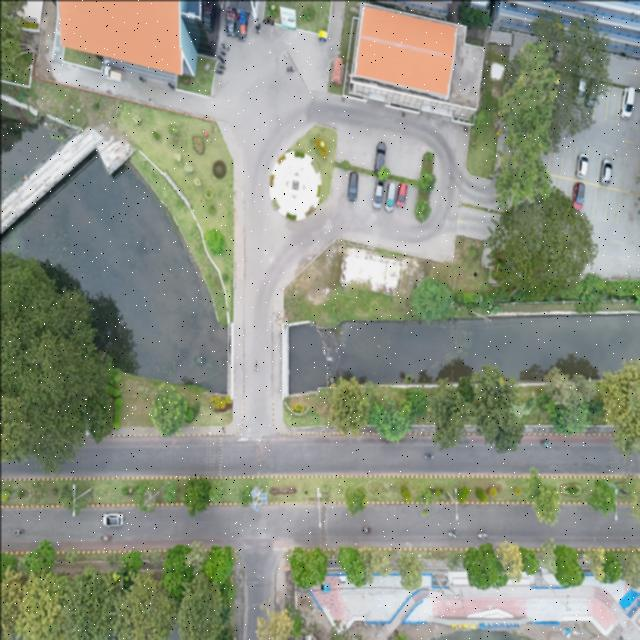Tree: (328, 376, 367, 434), (149, 383, 188, 438), (408, 276, 452, 324), (462, 542, 507, 588), (288, 544, 328, 588), (550, 542, 584, 586), (162, 545, 190, 595), (21, 538, 53, 580), (204, 542, 234, 586), (336, 546, 366, 588), (532, 484, 560, 525), (181, 478, 209, 515), (600, 550, 622, 583), (406, 388, 428, 420), (202, 226, 224, 256), (344, 487, 366, 513), (412, 198, 432, 222), (161, 478, 177, 504), (418, 172, 438, 192), (472, 484, 487, 502), (376, 163, 390, 181), (398, 486, 412, 502), (338, 158, 350, 172)
